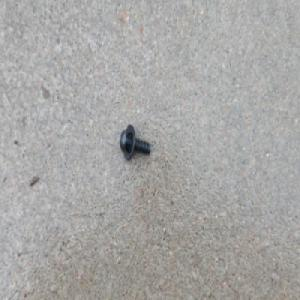BoltWasher: (119, 120, 151, 158)
